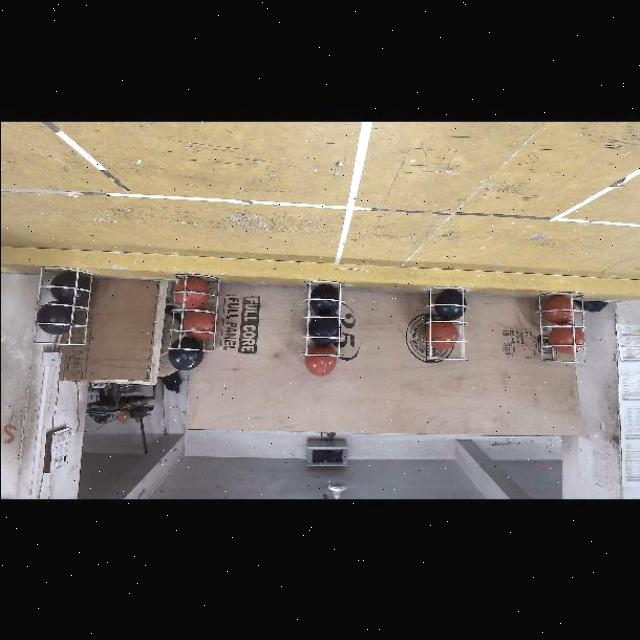P: (49, 270, 86, 302), (168, 338, 202, 368), (433, 290, 462, 318), (310, 284, 338, 312), (40, 304, 70, 330), (308, 316, 337, 340)
R: (303, 345, 336, 376), (175, 278, 209, 308), (544, 324, 580, 352), (428, 320, 458, 348), (183, 310, 214, 336), (542, 296, 574, 320)
S: (35, 264, 95, 350), (165, 267, 223, 355), (532, 286, 590, 364), (420, 284, 470, 364), (301, 280, 345, 360)
